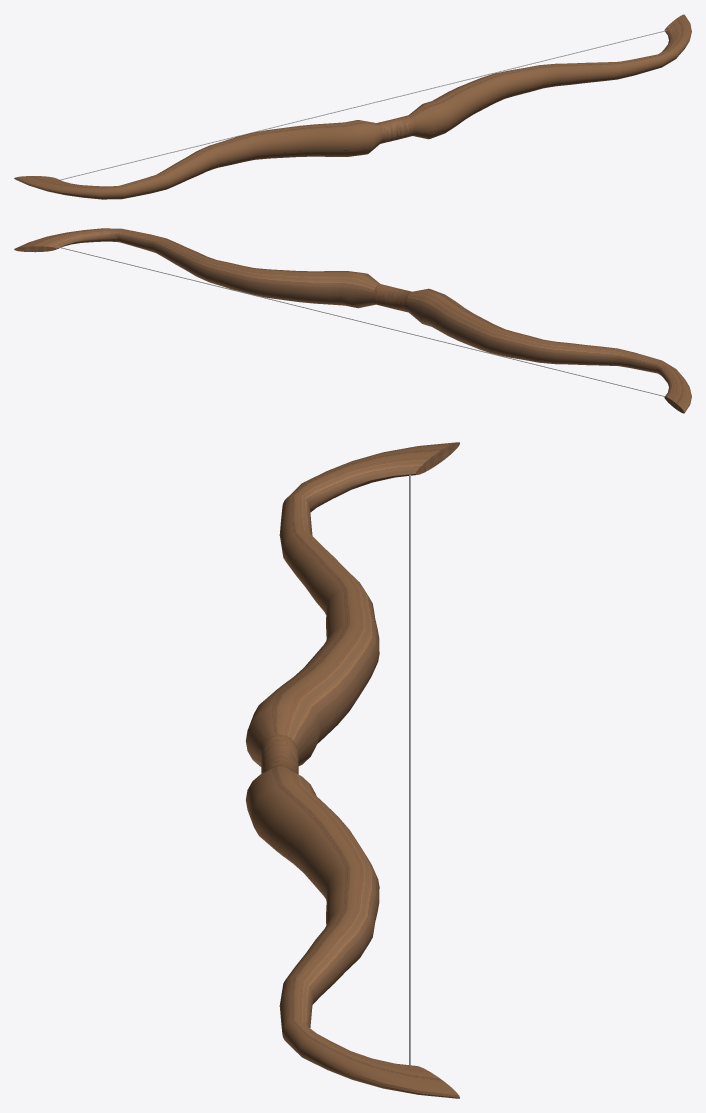
The model's file is arco.fbx.
3 views of the same model, one above another, from view 1: azimuth 30°, elevation 25°; view 2: azimuth 150°, elevation 25°; view 3: azimuth 270°, elevation 25° (orthographic). The views are drawn at different scales.
Parts seen in each view (by area): view 1: pCylinder3, pCylinder4; view 2: pCylinder3, pCylinder4; view 3: pCylinder3, pCylinder4.
Part boxes in pixels (box(x1,y1,x2,y2)): pCylinder3: box(14, 14, 691, 199); pCylinder4: box(60, 30, 666, 180); pCylinder3: box(14, 228, 691, 413); pCylinder4: box(57, 246, 664, 396); pCylinder3: box(246, 442, 459, 1098); pCylinder4: box(409, 474, 410, 1065).
Bounding box in the file's own units: 41.28 × 1.93 × 5.72.
2 materials, 1 textured.
